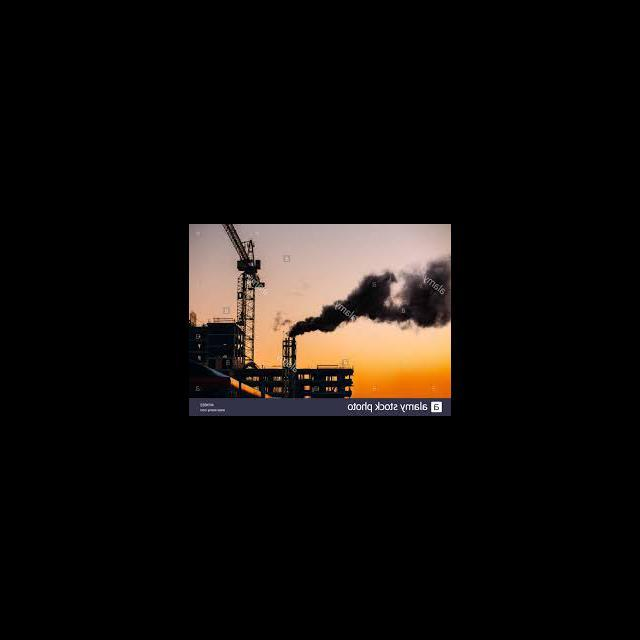Smoke: (294, 263, 443, 336)
